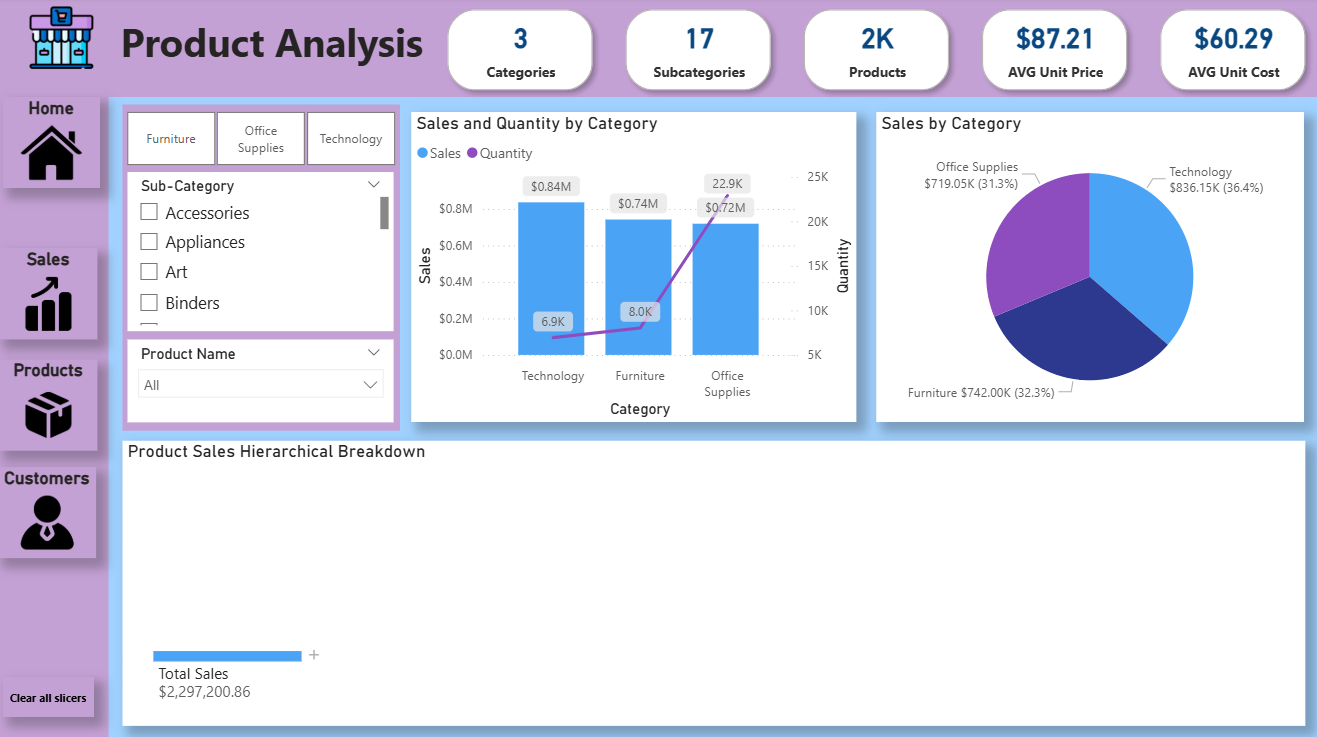

This screenshot's page, from the dashboard's own definition file:
{"tool":"powerbi","page":{"name":"Product Analysis","canvas":[1280,720],"ordinal":2},"visuals":[{"type":"shape","box":[123.1,103.8,267.8,314.9],"z":0},{"type":"shape","box":[0,0,1280,96.5],"z":1000},{"type":"shape","box":[0,0,109.8,720.2],"z":2000},{"type":"image","title":"Sales","box":[3.1,242.5,95.3,88.1],"z":3000},{"type":"image","title":"Products","box":[3.6,350.1,95.3,88.1],"z":4000},{"type":"image","title":"Customers","box":[2.4,453.8,95.3,88.1],"z":5000},{"type":"actionButton","box":[7.2,656.3,88.1,38.6],"z":6000},{"type":"image","title":"Home","box":[6.8,96.3,94.1,88.1],"z":7000},{"type":"image","box":[27.7,3.6,73.6,71.2],"z":8000},{"type":"textbox","box":[109.8,13.3,314.9,63.9],"z":9000},{"type":"cardVisual","fields":{"Data":["DAXMeasures.Categories","DAXMeasures.Subcategories","DAXMeasures.Products","DAXMeasures.AVGUnitPrice","DAXMeasures.AVGUnitCost"]},"box":[424.7,0,855.4,102.5],"z":10000},{"type":"pieChart","fields":{"Y":["DAXMeasures.Total Sales"],"Category":["DimProducts.Category"]},"box":[850.5,111,412.6,299.2],"z":11000},{"type":"lineClusteredColumnComboChart","fields":{"Y":["DAXMeasures.Total Sales"],"Category":["DimProducts.Category"],"Y2":["DAXMeasures.Total Quantity"]},"box":[401.7,111,429.5,299.2],"z":12000},{"type":"slicer","fields":{"Values":["DimProducts.Category"]},"box":[101.3,103.8,308.8,65.1],"z":13000},{"type":"slicer","fields":{"Values":["DimProducts.Sub-Category"]},"box":[127.9,168.9,257,153.2],"z":14000},{"type":"slicer","fields":{"Values":["DimProducts.Product Name"]},"box":[127.9,330.6,257,79.6],"z":15000},{"type":"decompositionTreeVisual","title":"Product Sales Hierarchical Breakdown","fields":{"ExplainBy":["DimProducts.Product Name","DimProducts.Category","DimProducts.Sub-Category"],"Analyze":["DAXMeasures.Total Sales"]},"box":[123.1,428.3,1141.3,275.1],"z":16000}]}

Visuals, with their boxes in screenshot pixels (x1, y1, x2, y2), scaled from the page's 1280x720 canvas onto the 1317x737 screenshot:
shape: x1=127, y1=106, x2=402, y2=429
shape: x1=0, y1=0, x2=1316, y2=99
shape: x1=0, y1=0, x2=113, y2=736
"Sales" image: x1=3, y1=248, x2=101, y2=338
"Products" image: x1=4, y1=358, x2=102, y2=449
"Customers" image: x1=2, y1=465, x2=101, y2=555
actionButton: x1=7, y1=672, x2=98, y2=711
"Home" image: x1=7, y1=99, x2=104, y2=189
image: x1=29, y1=4, x2=104, y2=77
textbox: x1=113, y1=14, x2=437, y2=79
cardVisual - DAXMeasures.Categories x DAXMeasures.Subcategories: x1=437, y1=0, x2=1316, y2=105
pieChart - DAXMeasures.Total Sales x DimProducts.Category: x1=875, y1=114, x2=1300, y2=420
lineClusteredColumnComboChart - DAXMeasures.Total Sales x DimProducts.Category: x1=413, y1=114, x2=855, y2=420
slicer - DimProducts.Category: x1=104, y1=106, x2=422, y2=173
slicer - DimProducts.Sub-Category: x1=132, y1=173, x2=396, y2=330
slicer - DimProducts.Product Name: x1=132, y1=338, x2=396, y2=420
"Product Sales Hierarchical Breakdown" decompositionTreeVisual: x1=127, y1=438, x2=1301, y2=720
